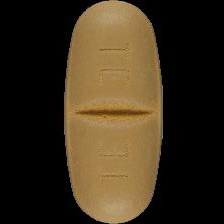55289-007: (0, 0, 224, 224)
